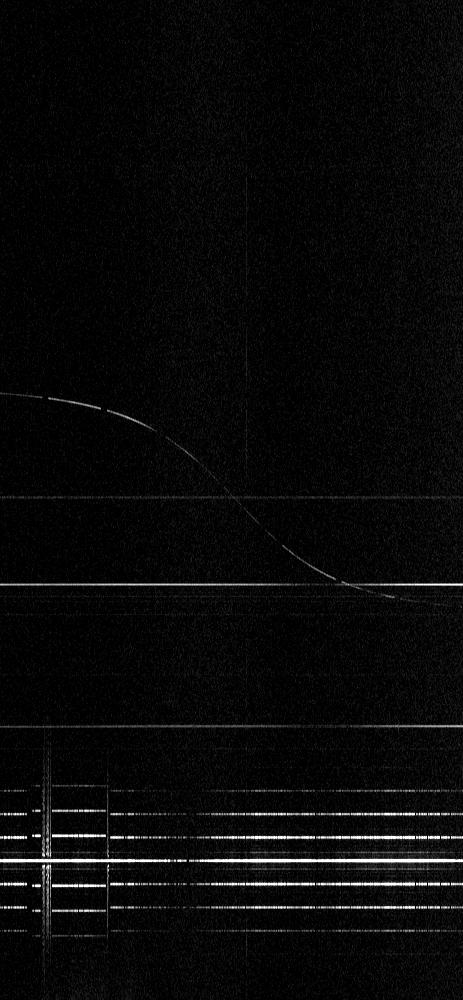signal: (0, 0, 462, 999)
